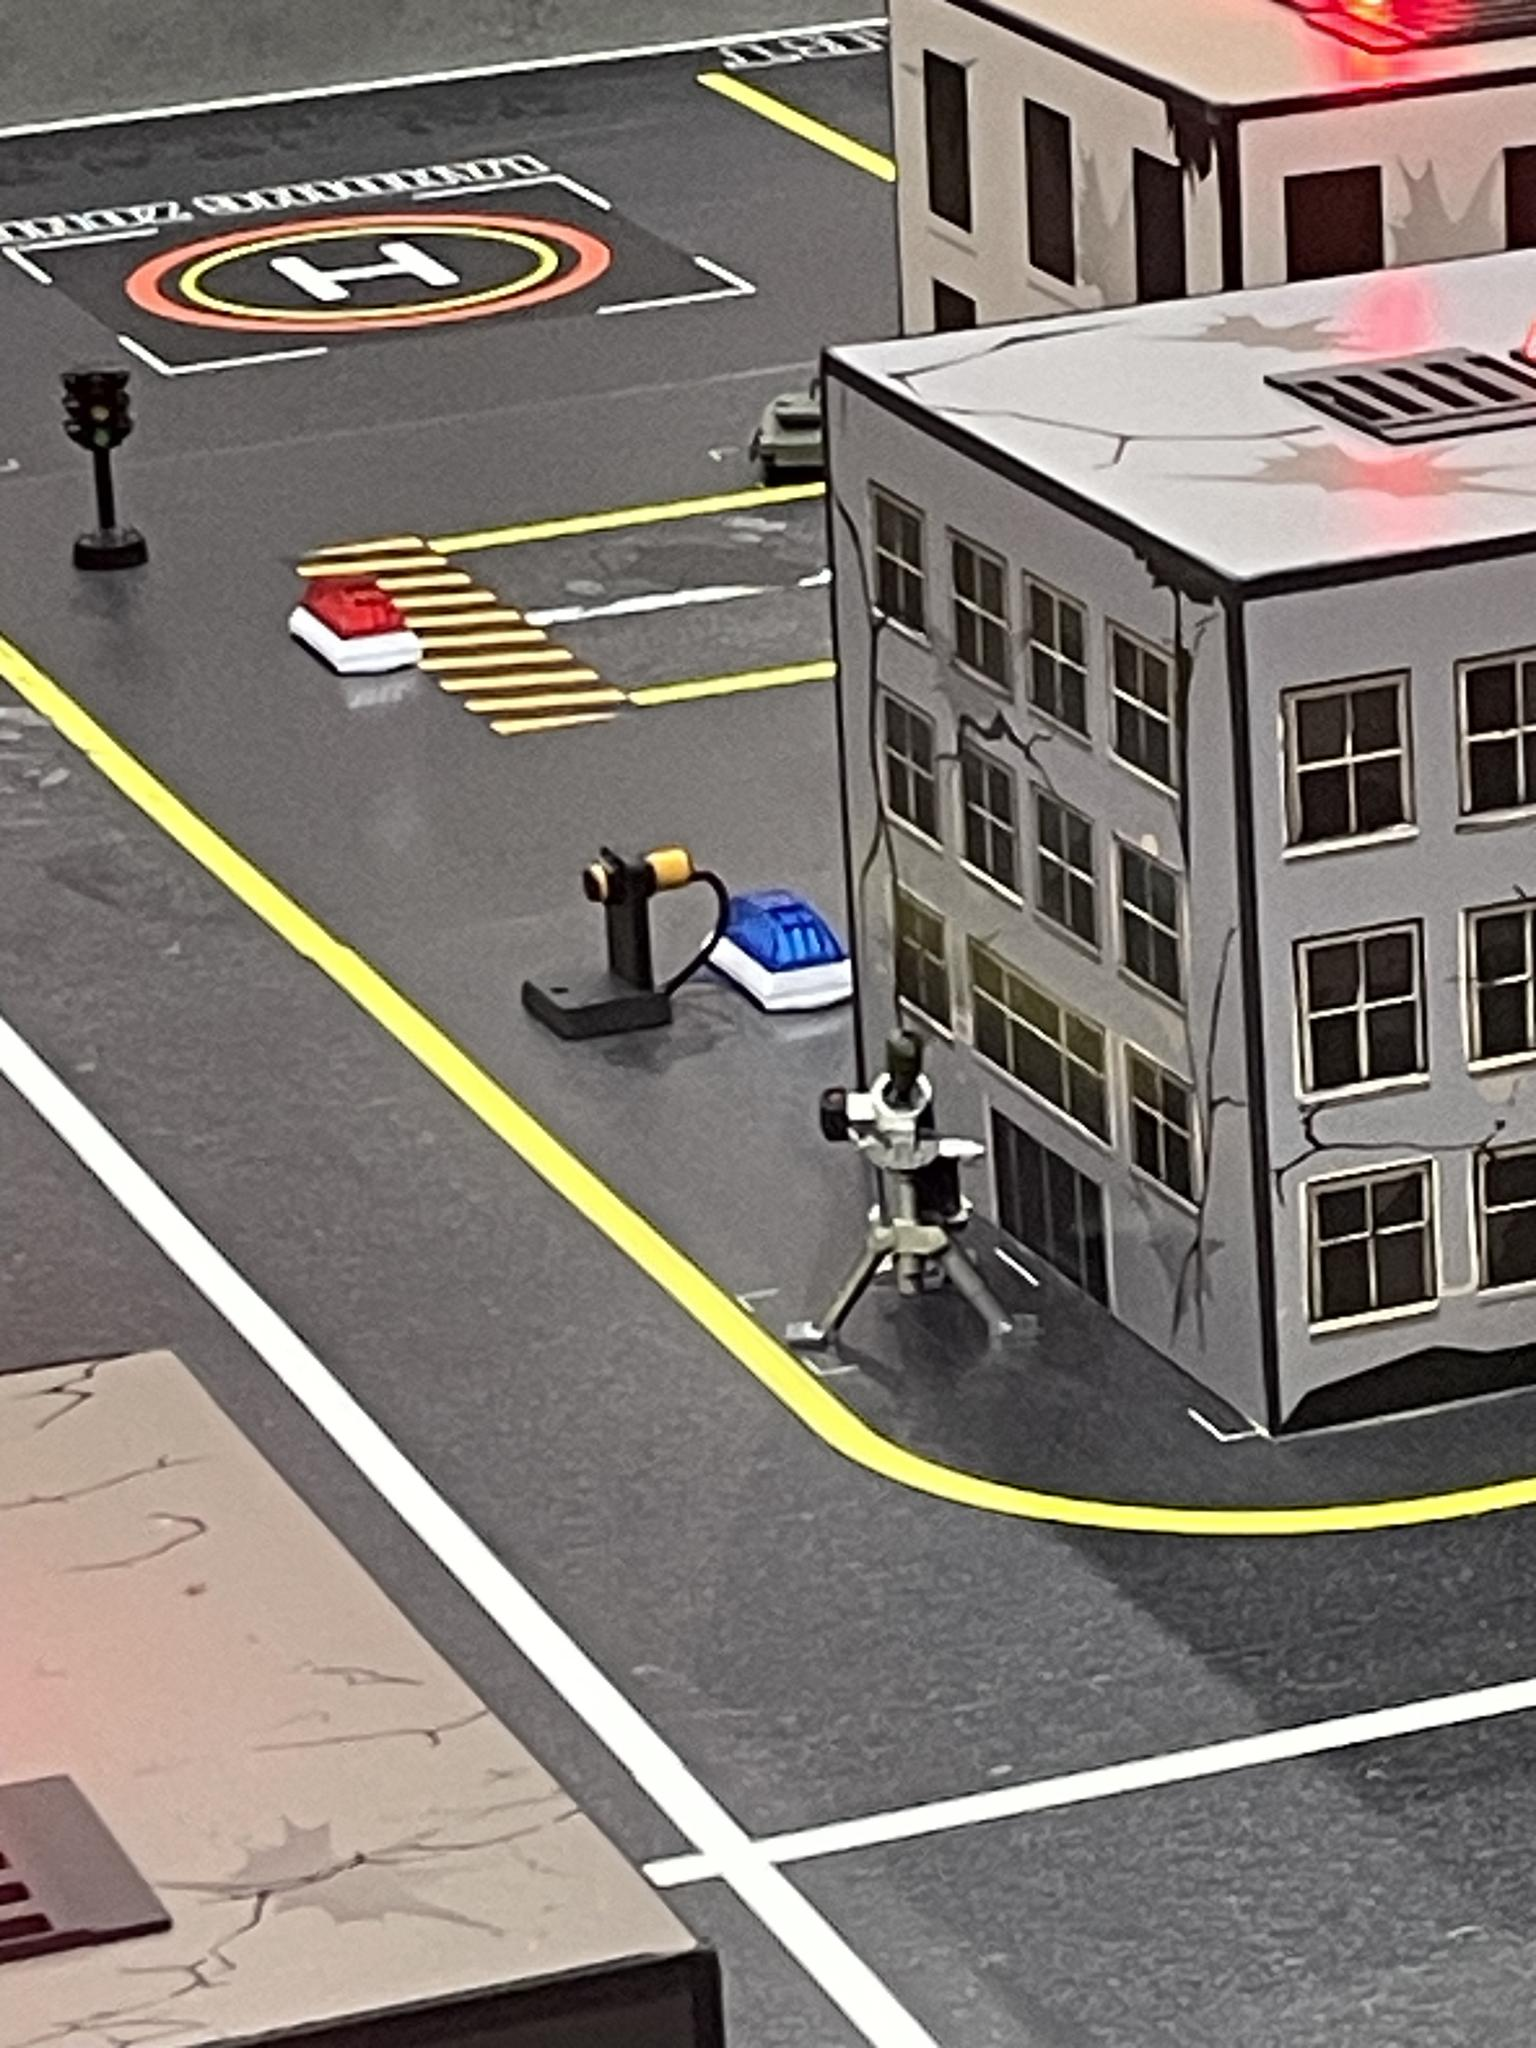Mortar: (777, 1029, 1062, 1374)
Tank: (749, 368, 828, 483)
